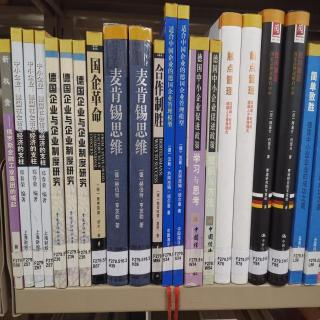book-spine: (264, 11, 311, 287), (245, 11, 285, 284), (227, 14, 263, 285), (209, 14, 243, 285), (288, 44, 320, 286), (182, 36, 211, 289), (103, 21, 129, 287), (10, 26, 35, 289), (0, 38, 25, 289), (22, 29, 45, 288), (85, 30, 108, 288), (45, 36, 68, 289), (57, 38, 80, 288), (33, 28, 55, 288), (129, 27, 151, 287), (71, 39, 93, 288), (172, 5, 190, 287), (161, 4, 178, 287), (202, 38, 221, 287), (150, 40, 165, 286)
